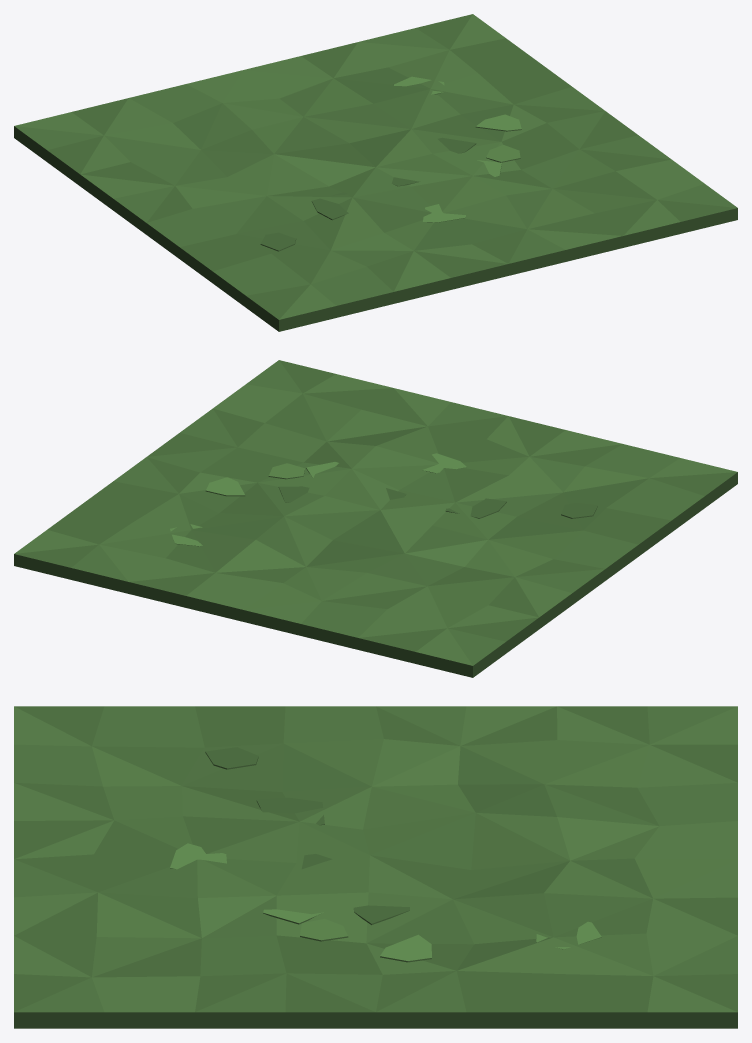
File: ground_grass_c.glb
3 views of the same model, one above another, from view 1: azimuth 30°, elevation 25°; view 2: azimuth 150°, elevation 25°; view 3: azimuth 270°, elevation 25° (orthographic). The views are drawn at different scales.
Parts seen in each view (by area): view 1: ground_grass_c; view 2: ground_grass_c; view 3: ground_grass_c.
Part boxes in pixels (bbox=[...]): ground_grass_c: bbox=[14, 14, 737, 331]; ground_grass_c: bbox=[14, 360, 737, 677]; ground_grass_c: bbox=[14, 706, 737, 1028].
Bounding box in the file's own units: 4 × 0.1325 × 4.
